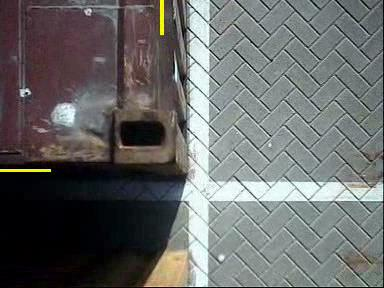groundmarker_2: (203, 143, 246, 193)
